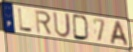7: (93, 18, 107, 43)
A: (110, 20, 130, 48)
D: (72, 14, 90, 42)
L: (17, 7, 33, 33)
R: (34, 10, 53, 36)
U: (53, 12, 72, 40)
